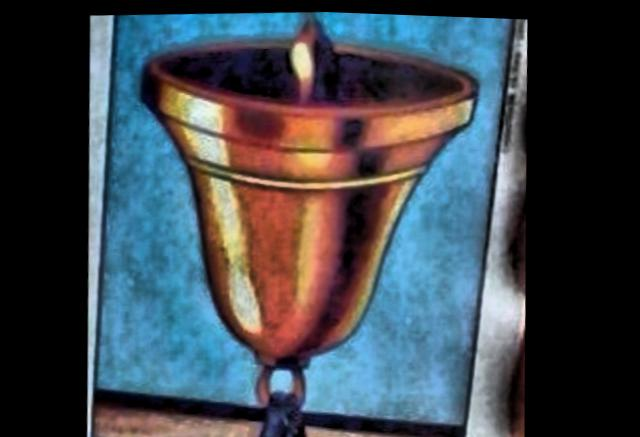La Campana: (98, 9, 512, 437)
